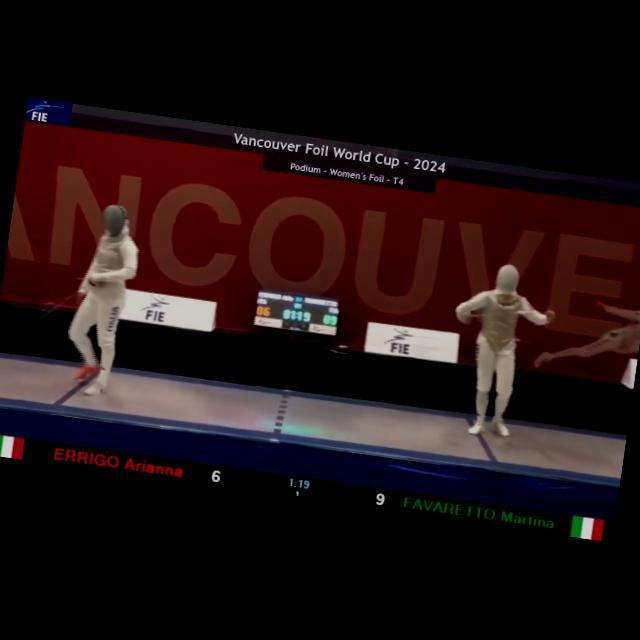blade: (22, 267, 99, 346), (462, 298, 551, 334)
